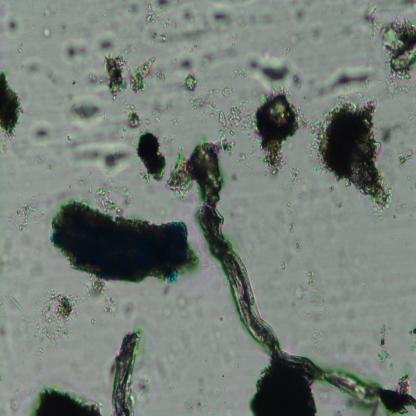Background material: (318, 99, 392, 210), (142, 0, 238, 51), (250, 88, 302, 176), (204, 86, 259, 156), (107, 323, 144, 416), (238, 52, 309, 92), (36, 284, 80, 342), (381, 16, 416, 85), (101, 52, 153, 98), (291, 258, 328, 320), (38, 383, 102, 416), (66, 143, 129, 175), (316, 64, 369, 101), (0, 71, 25, 142), (376, 371, 416, 415), (135, 134, 167, 183), (84, 275, 115, 313), (12, 194, 44, 230), (67, 100, 104, 127), (78, 65, 115, 88), (160, 292, 187, 322), (375, 320, 390, 366), (182, 70, 204, 100), (61, 37, 85, 64), (21, 60, 53, 80), (175, 154, 191, 194), (363, 0, 381, 30), (381, 118, 402, 143), (393, 146, 413, 172), (126, 110, 146, 131), (404, 316, 416, 350), (2, 244, 15, 272), (292, 6, 310, 26), (97, 38, 115, 55), (6, 15, 20, 36), (10, 293, 26, 311), (118, 300, 133, 319), (287, 200, 295, 233), (43, 7, 59, 21), (42, 25, 53, 40), (0, 325, 6, 338)
Cellulose filter fibre: (187, 144, 380, 405)
Fragment: (49, 196, 194, 286)
